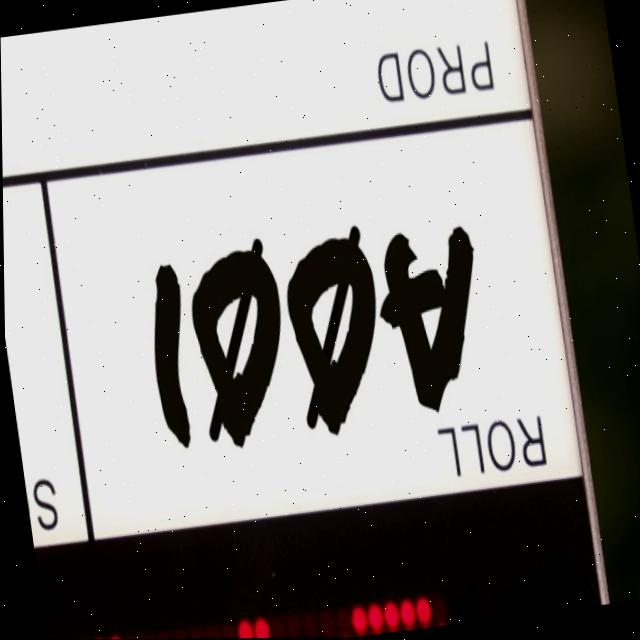Clapperboard: (0, 0, 613, 640)
